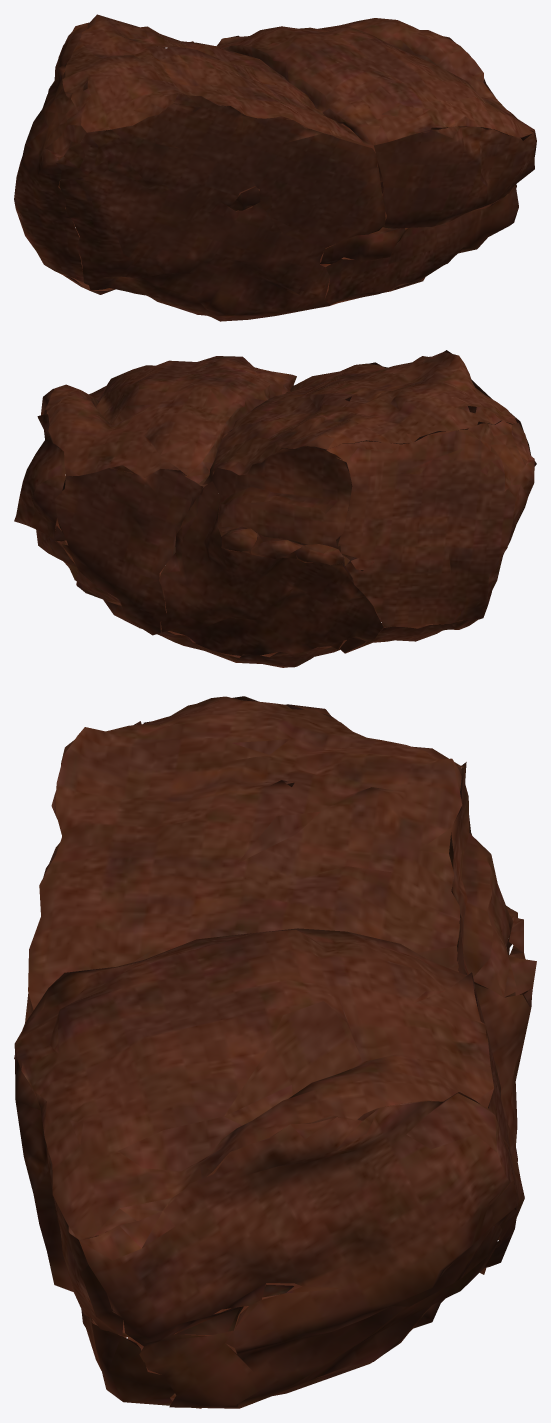
File: rock_small.glb
3 views of the same model, one above another, from view 1: azimuth 30°, elevation 25°; view 2: azimuth 150°, elevation 25°; view 3: azimuth 270°, elevation 25° (orthographic). The views are drawn at different scales.
Parts seen in each view (by area): view 1: rock_small; view 2: rock_small; view 3: rock_small.
Boxes of the visible parts, x1,y1,x2,y2 form: rock_small: (14, 14, 536, 321); rock_small: (14, 350, 536, 667); rock_small: (14, 696, 536, 1408).
Size of the model in its own units: 1.3 by 0.6976 by 0.7211.
Materials: 1 (1 with a texture image).
